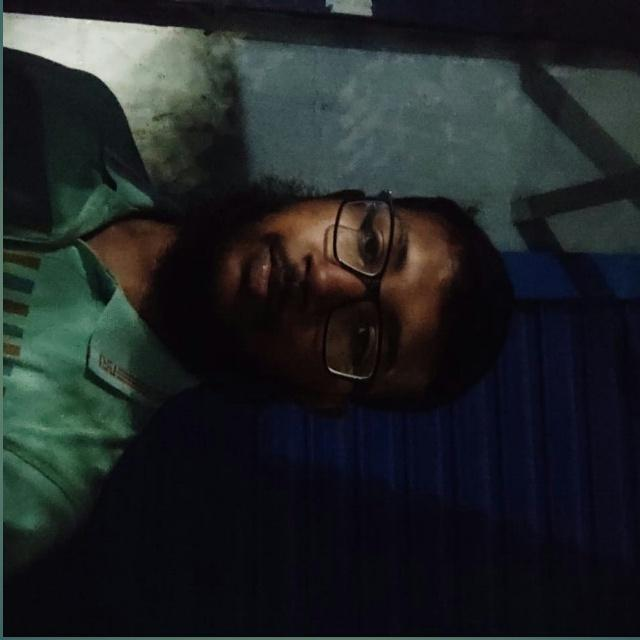Natural: (192, 112, 513, 474)
